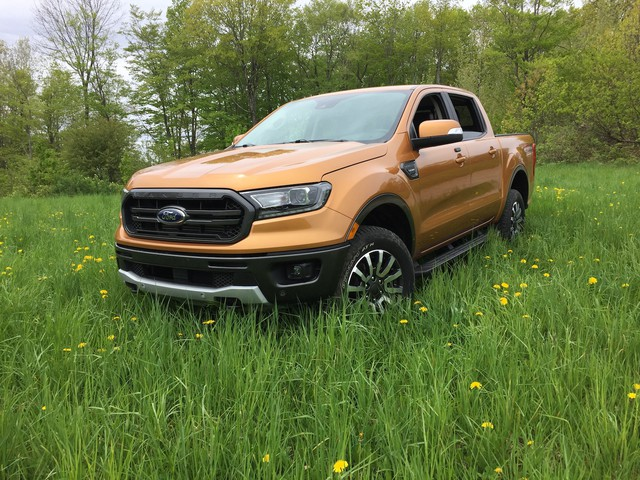Vehicle: (110, 84, 545, 317)
